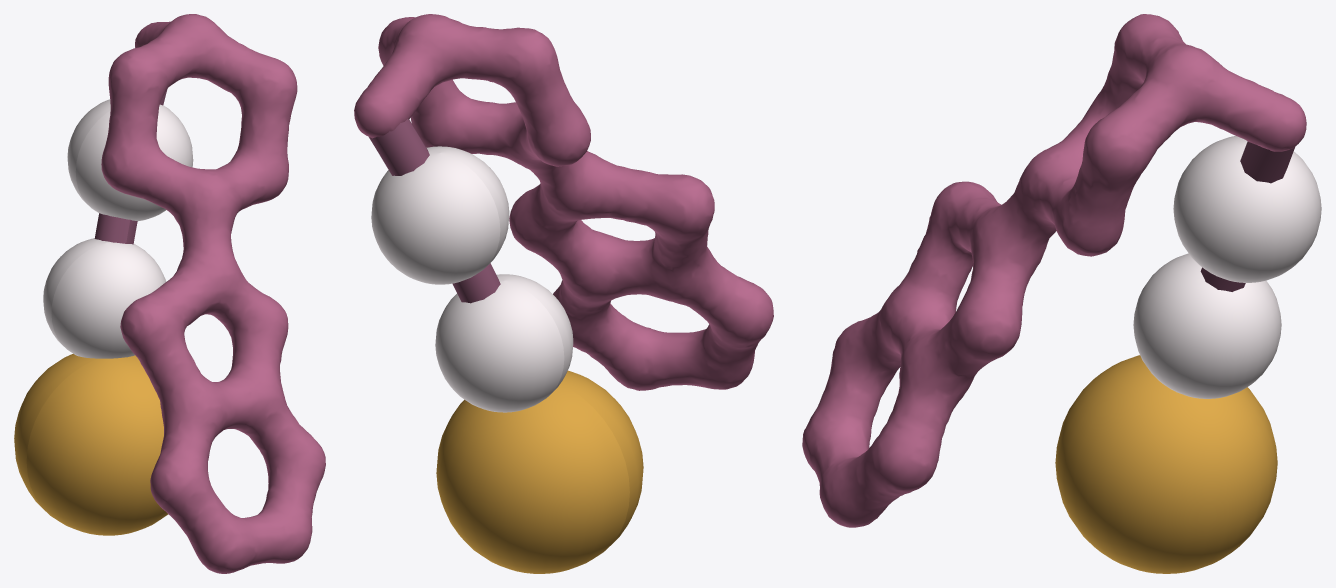
File: halfA.glb
3 views of the same model, side by side, from view 1: azimuth 30°, elevation 25°; view 2: azimuth 150°, elevation 25°; view 3: azimuth 270°, elevation 25° (orthographic). The views are drawn at different scales.
Bounding box in the file's own units: 4.96 × 9.28 × 7.71.
